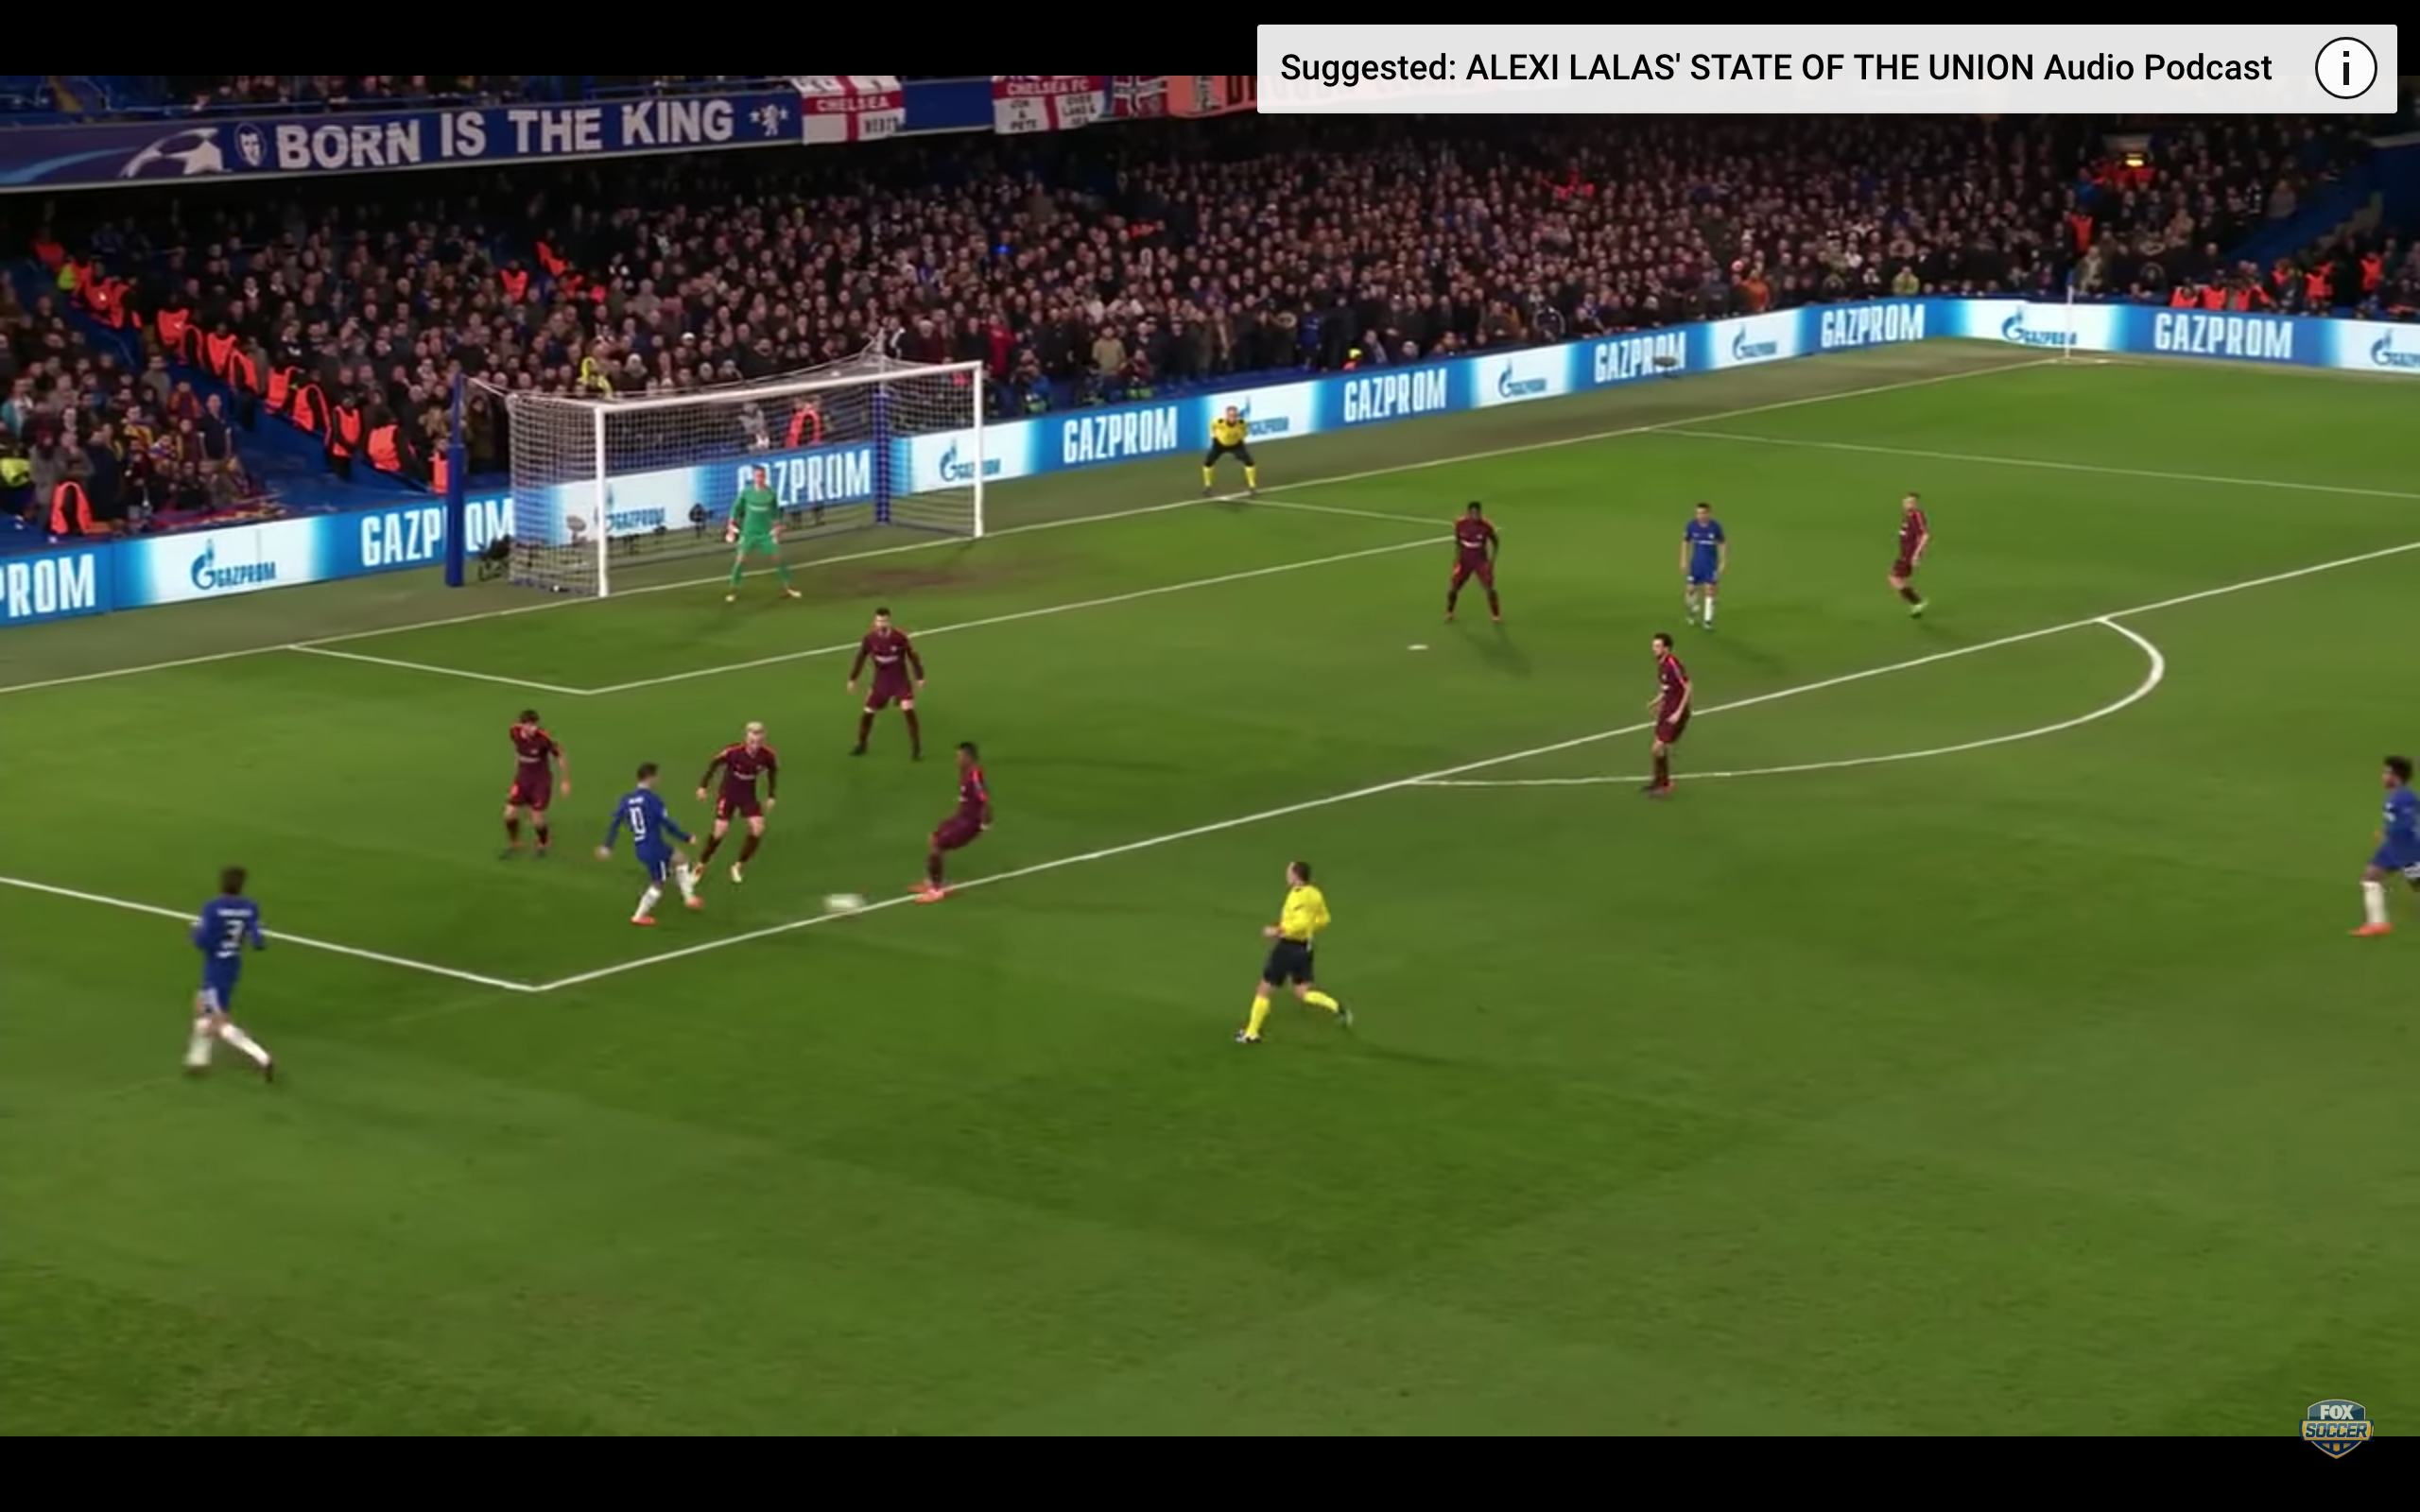referee: (1227, 857, 1359, 1059), (1198, 405, 1267, 504)
soccer ball: (812, 885, 872, 927)
soccer player: (175, 862, 287, 1096), (596, 761, 708, 933), (901, 737, 1007, 910), (691, 721, 802, 887), (2343, 749, 2420, 949), (837, 610, 927, 765), (712, 468, 812, 610), (495, 706, 575, 860), (1630, 629, 1699, 803), (1436, 498, 1512, 634), (1879, 490, 1943, 624), (1675, 503, 1730, 639)
